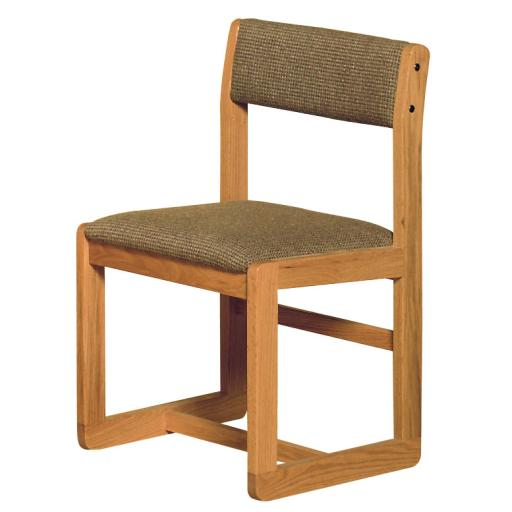chair: (67, 17, 424, 498)
